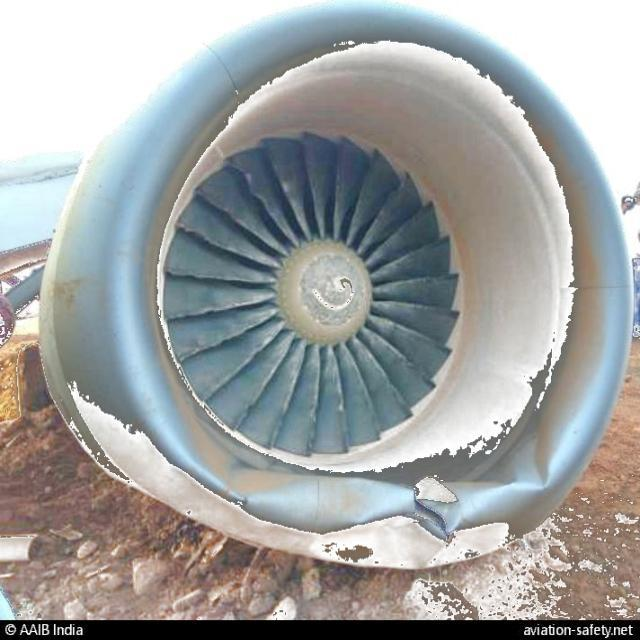dent: (251, 475, 417, 528), (507, 422, 558, 490)
